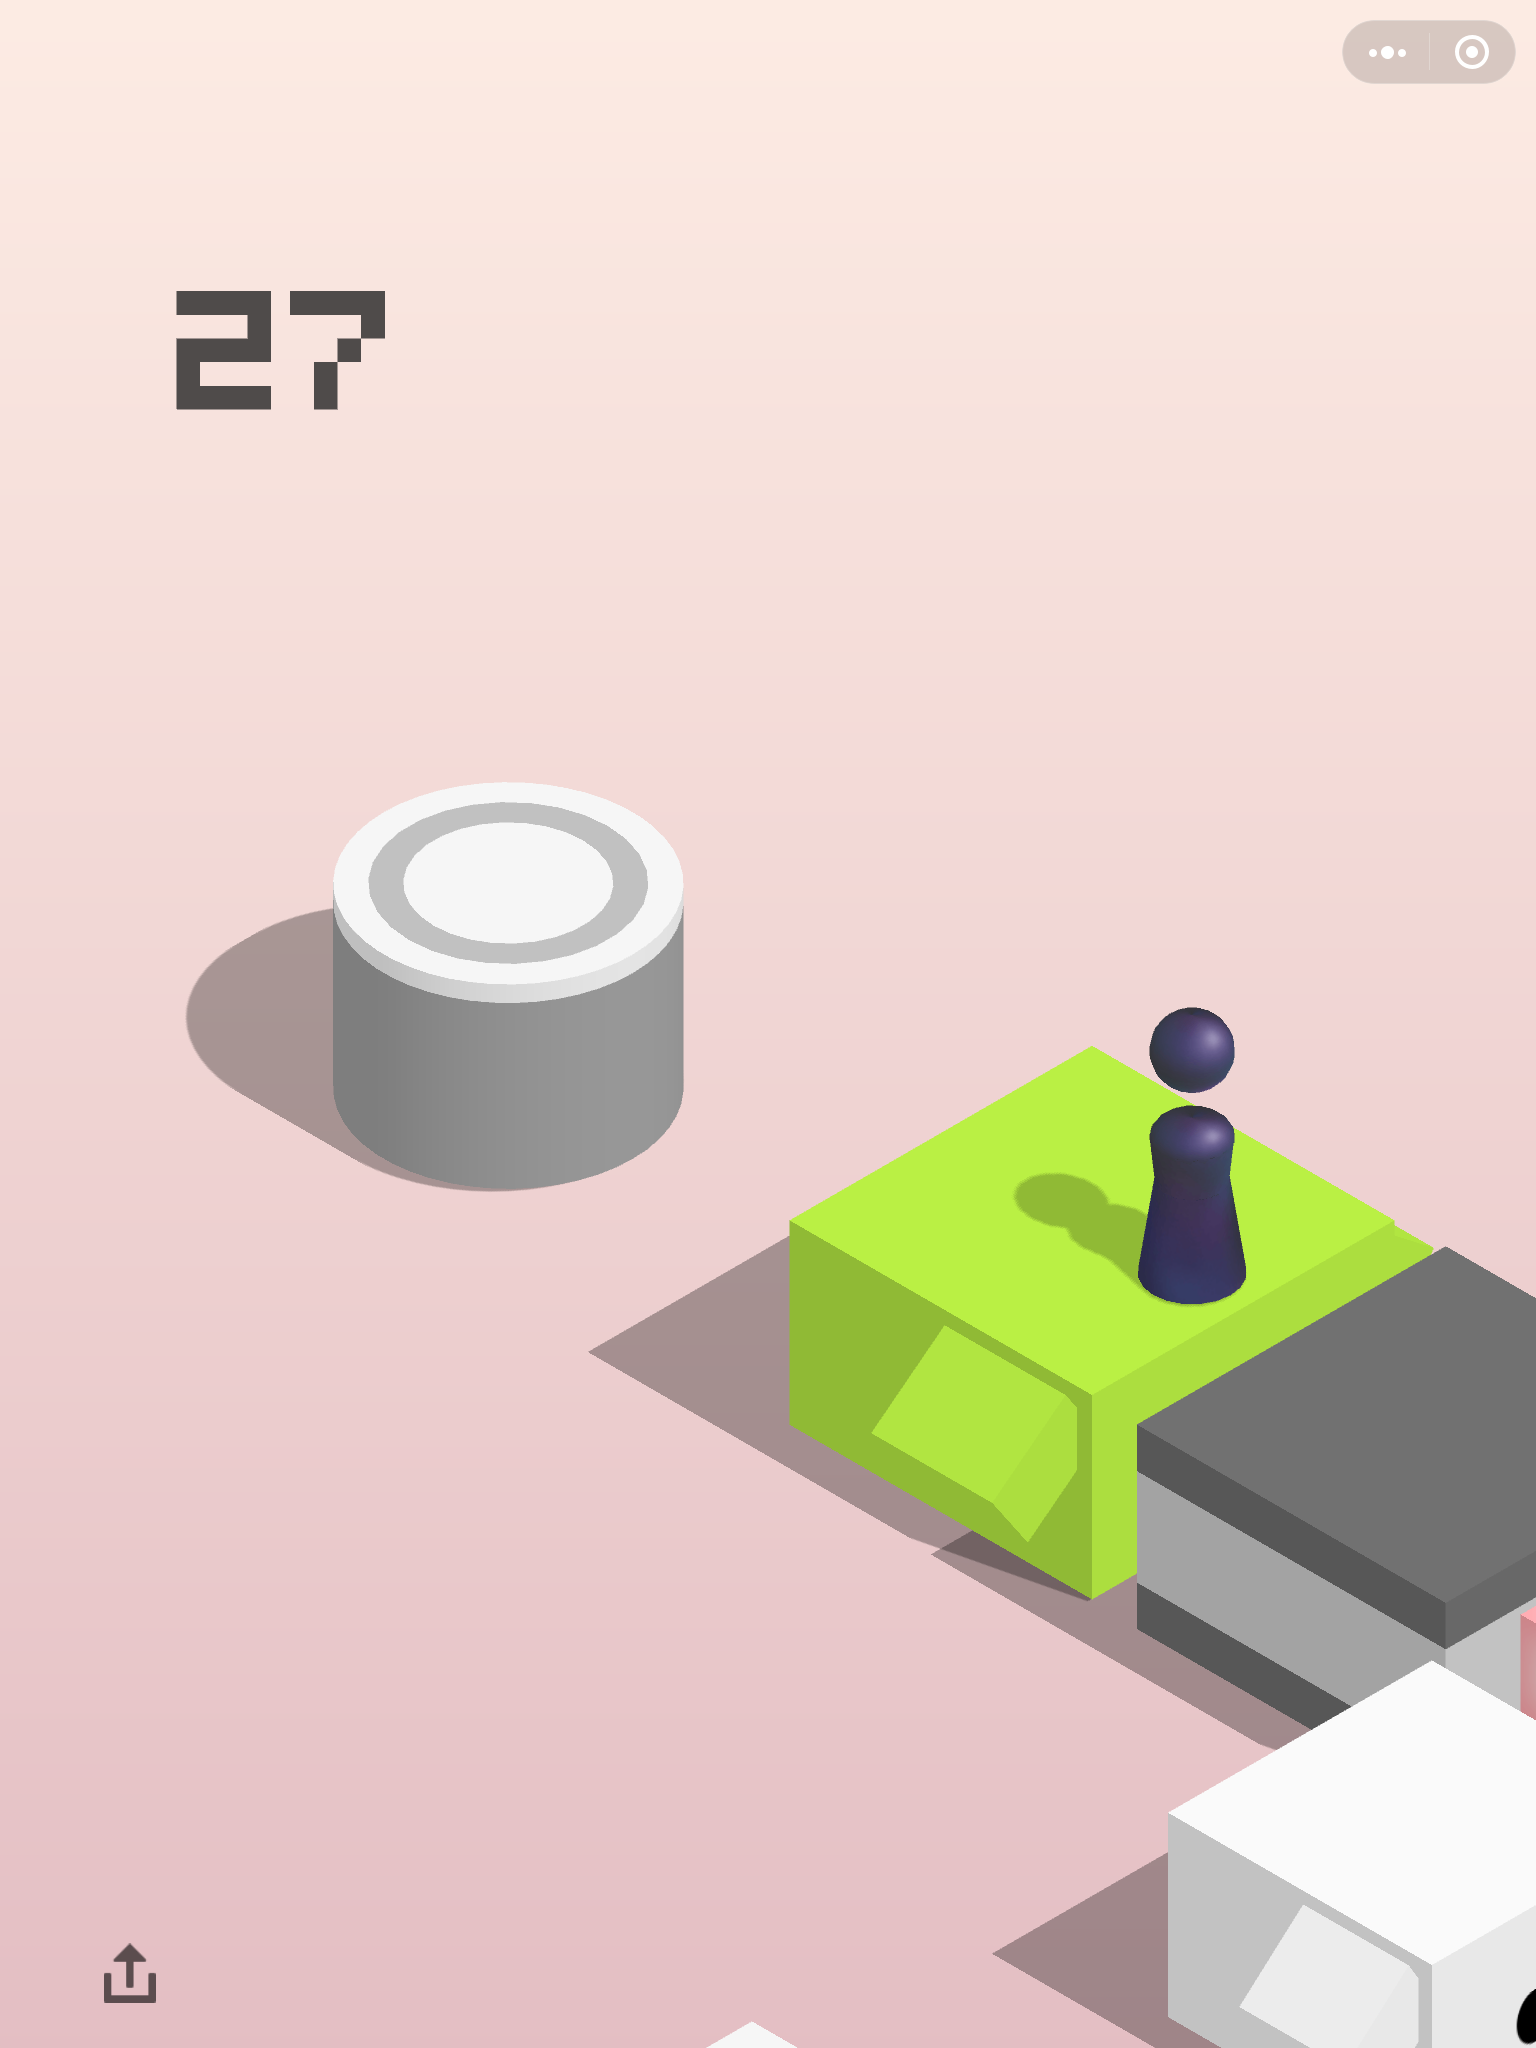c: (328, 779, 692, 1195)
f: (774, 1039, 1444, 1608), (1134, 1243, 1536, 1755), (1163, 1663, 1533, 2048)
r: (1131, 997, 1250, 1309)
